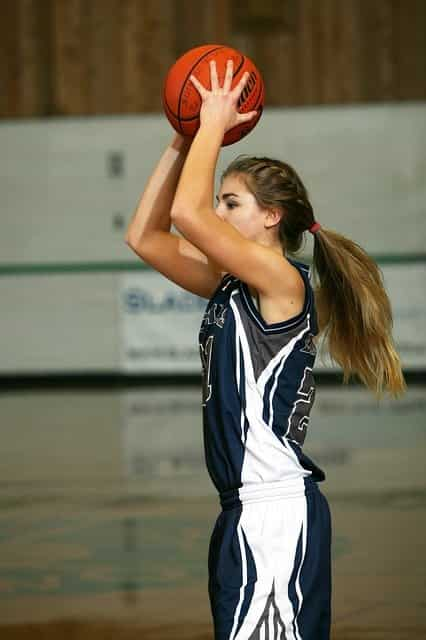ball: (151, 40, 273, 152)
